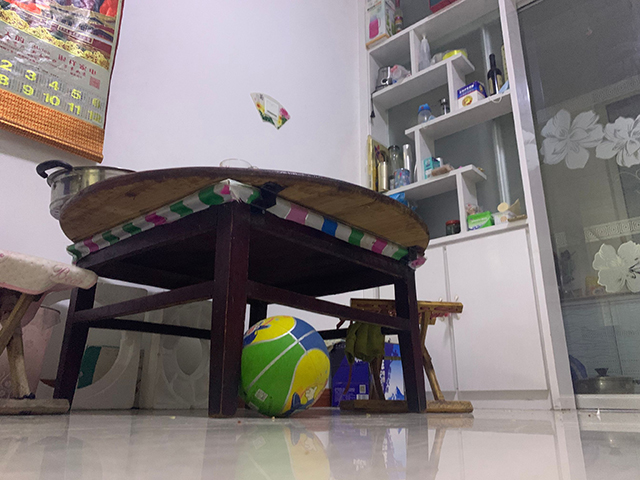cabinet: (428, 221, 574, 413)
stool: (1, 249, 99, 415), (338, 298, 474, 415)
table: (49, 165, 430, 420)
